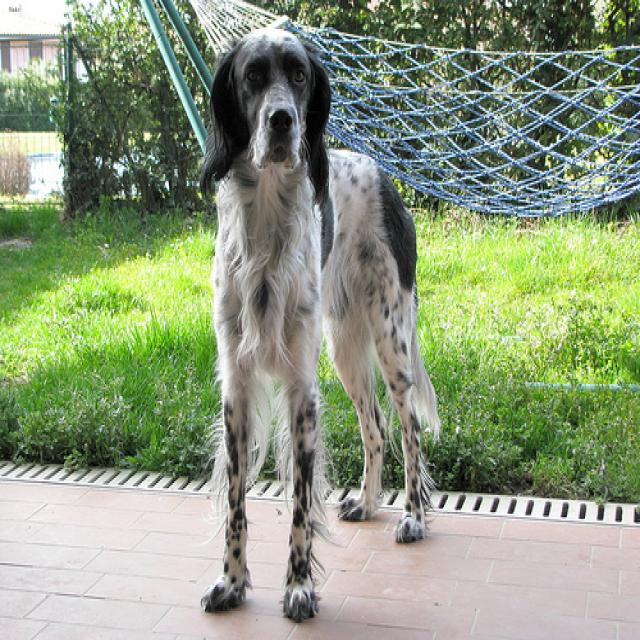dog-english_setter: (189, 17, 447, 637)
